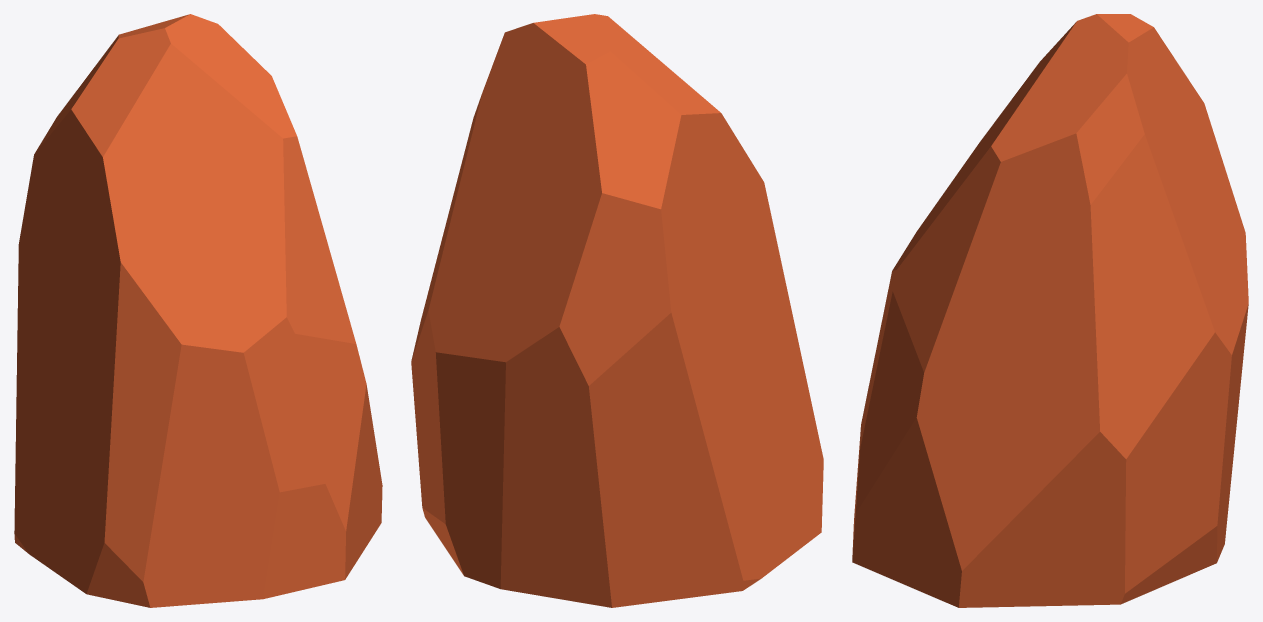
Rendered from rock.fbx.
3 renders of one model, left to right at view 1: azimuth 30°, elevation 25°; view 2: azimuth 150°, elevation 25°; view 3: azimuth 270°, elevation 25°, orthographic. The views are drawn at different scales.
Visible parts, largest first — view 1: Cube.002; view 2: Cube.002; view 3: Cube.002.
Boxes of the visible parts, x1,y1,x2,y2 form: Cube.002: [14, 14, 382, 607]; Cube.002: [411, 14, 823, 607]; Cube.002: [852, 14, 1248, 607].
Size of the model in its own units: 61.01 by 94.28 by 65.56.
